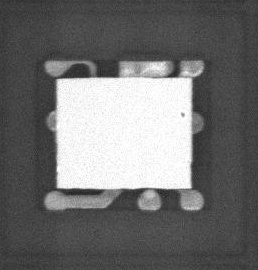DIE_INK: (170, 115, 178, 125)
